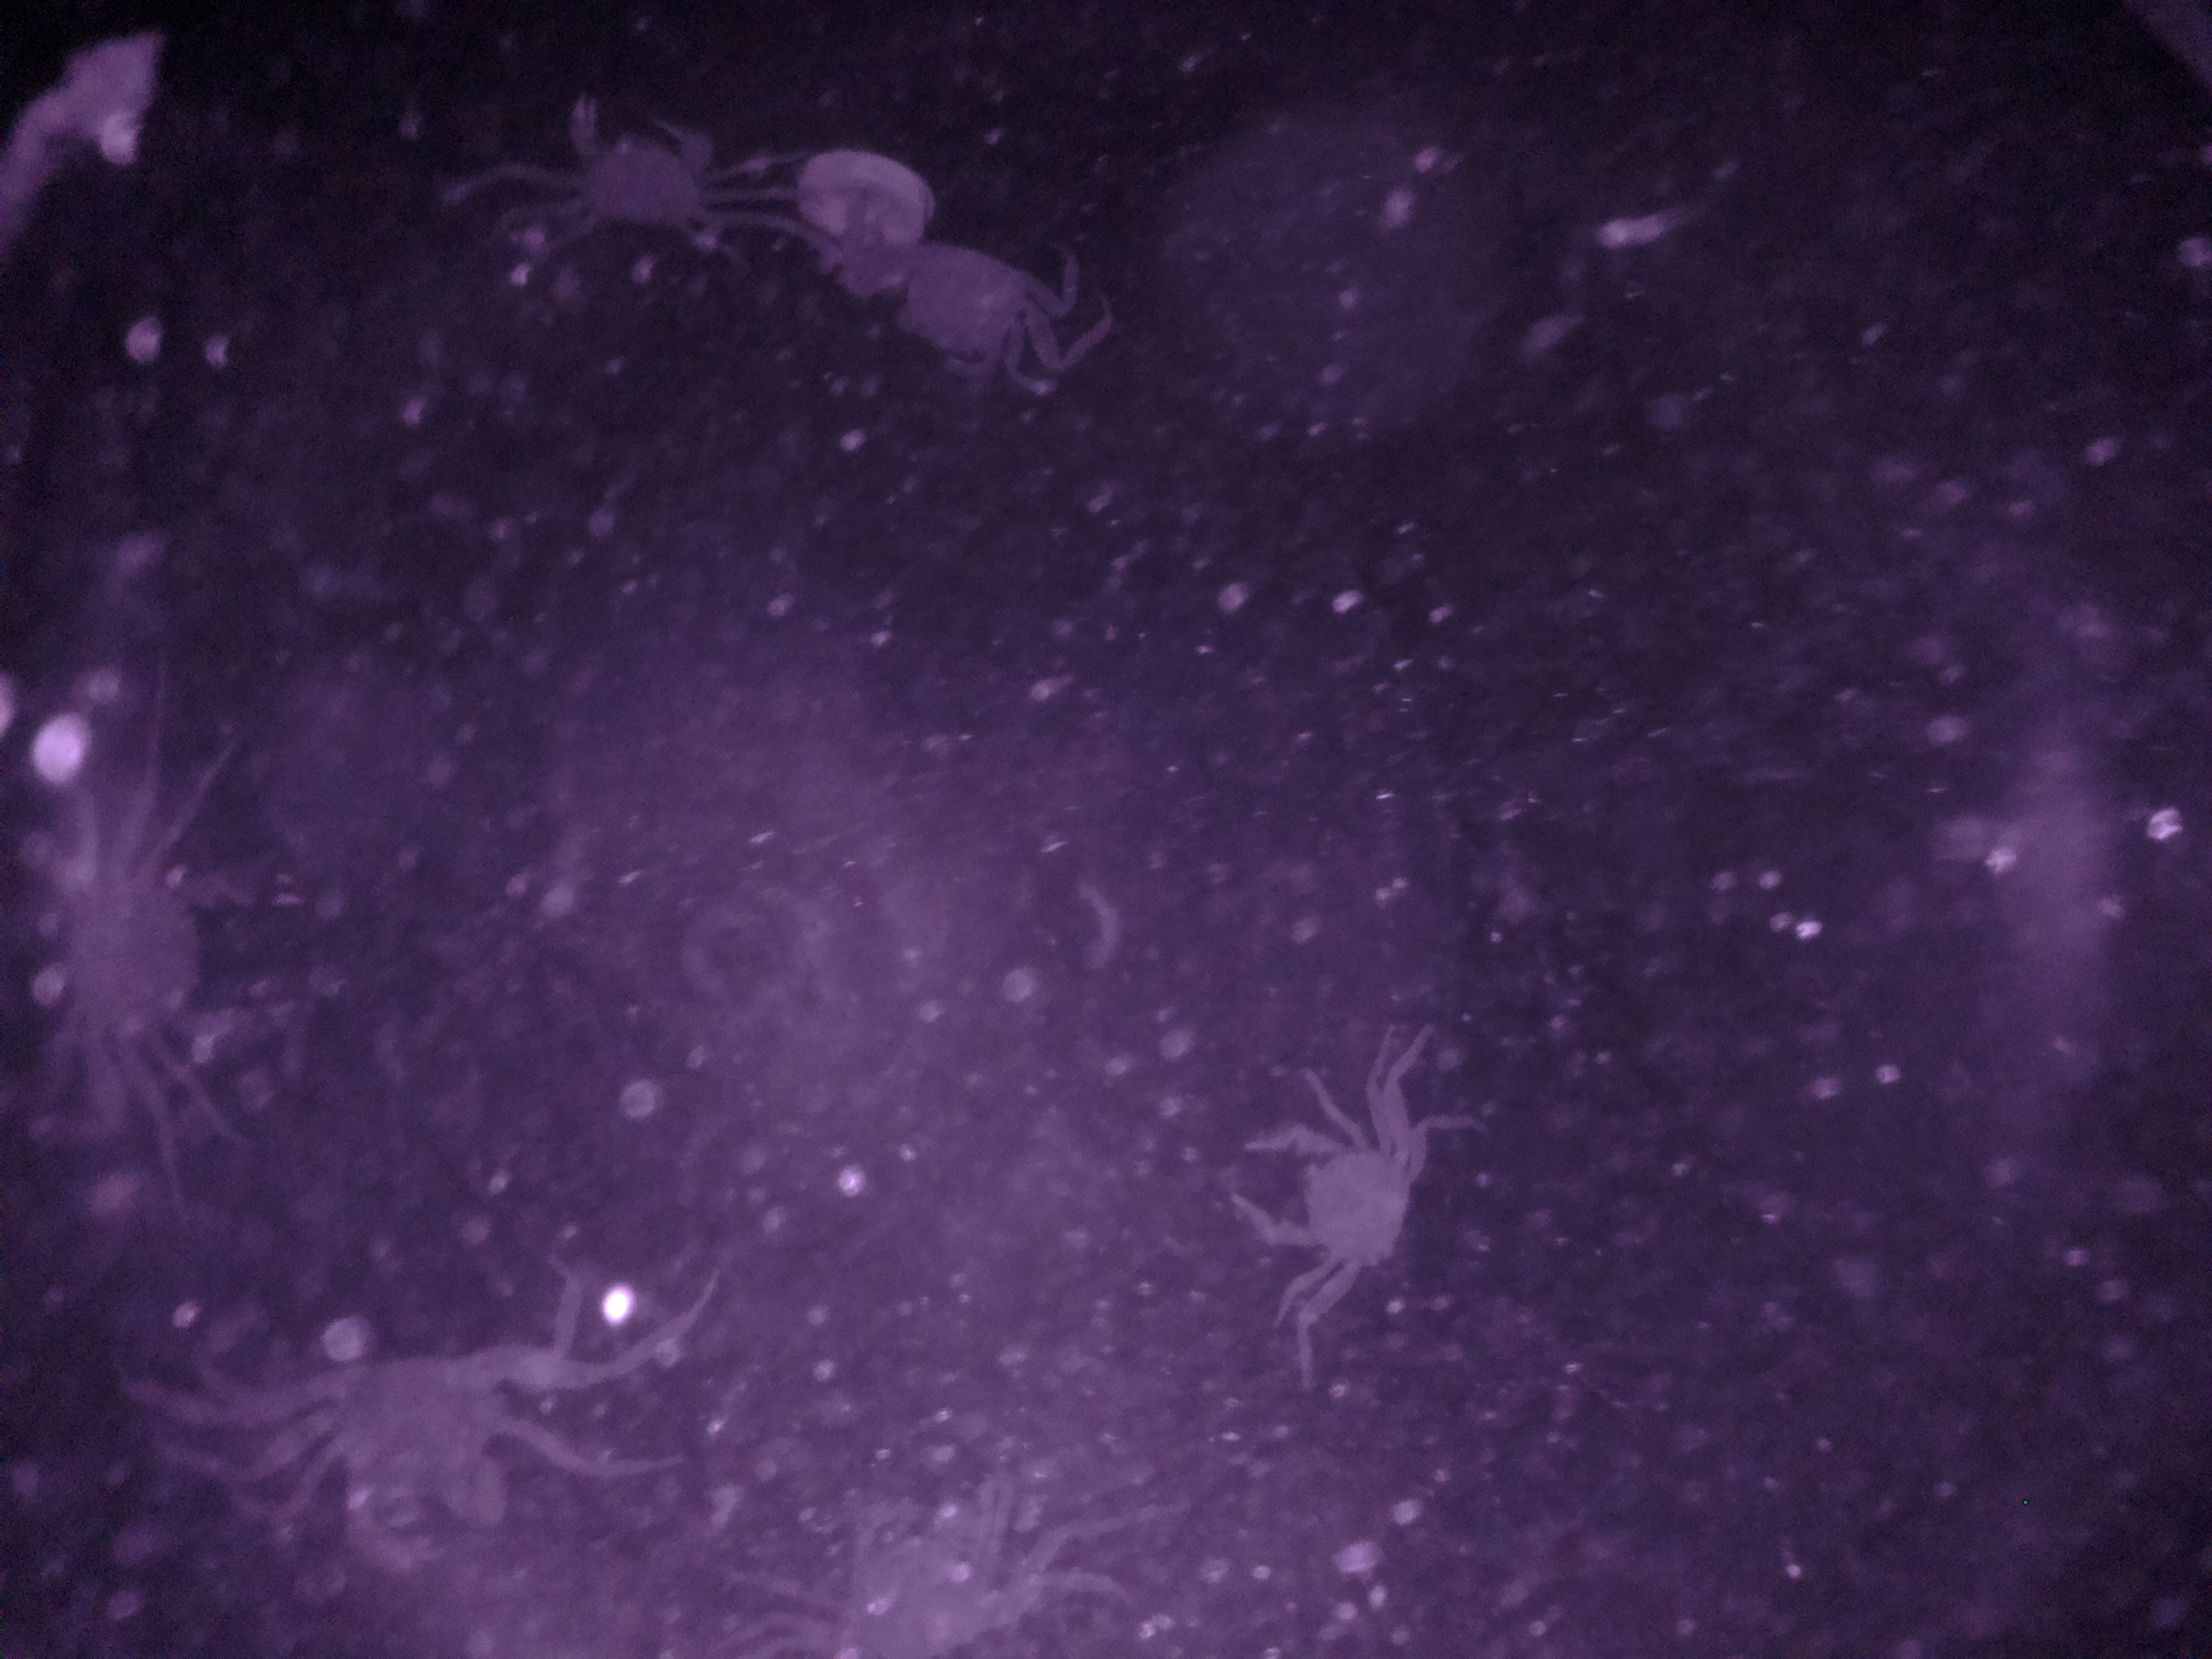Crab: (1214, 1084, 1428, 1295), (529, 73, 749, 277)
